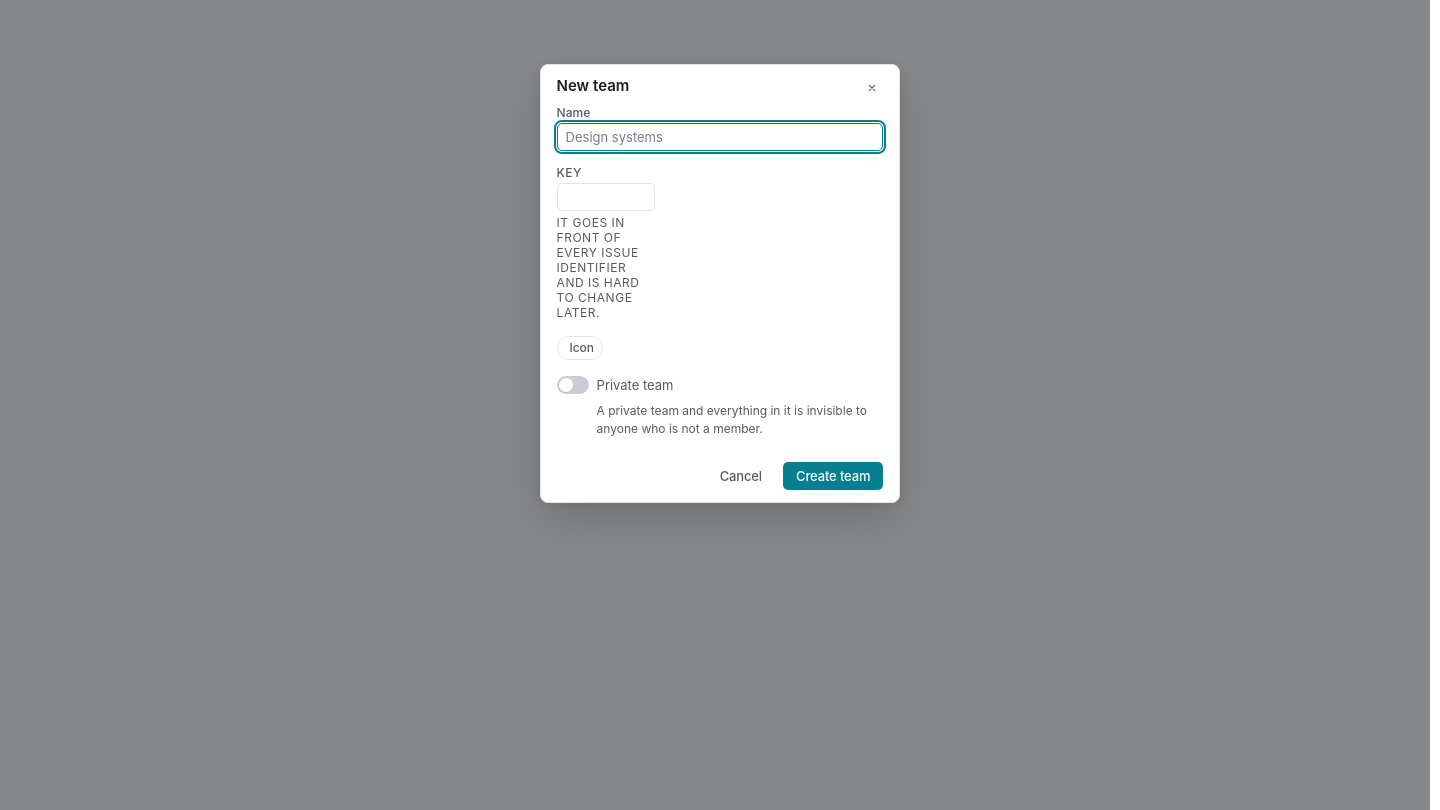
Test: discarding a new team › asks over a key that was typed rather than suggested
This screenshot has width=1440, height=810.
Type "DS" into the field labelled "Key". click: (606, 197)
box: x1=566 y1=184 x2=646 y2=210
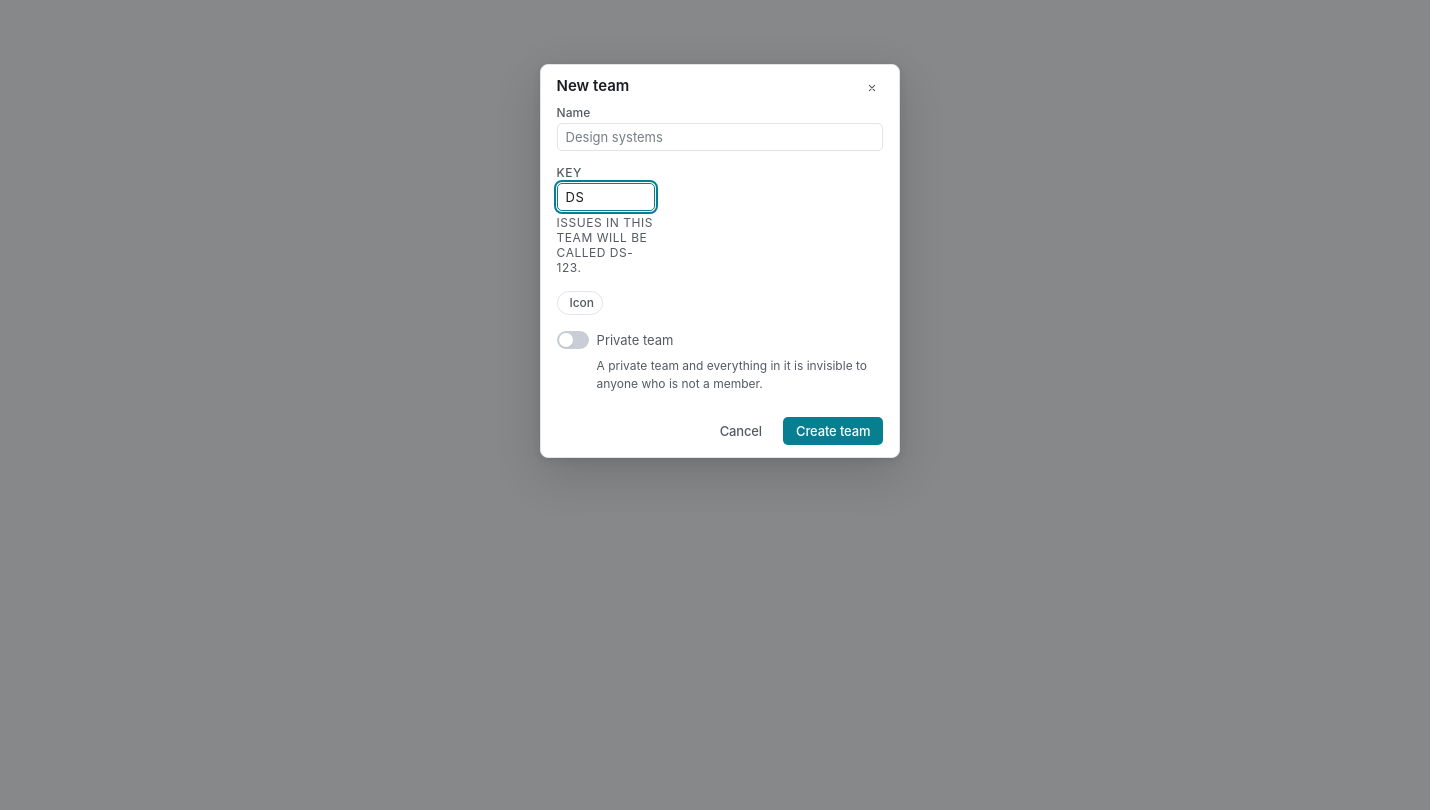
Press Escape
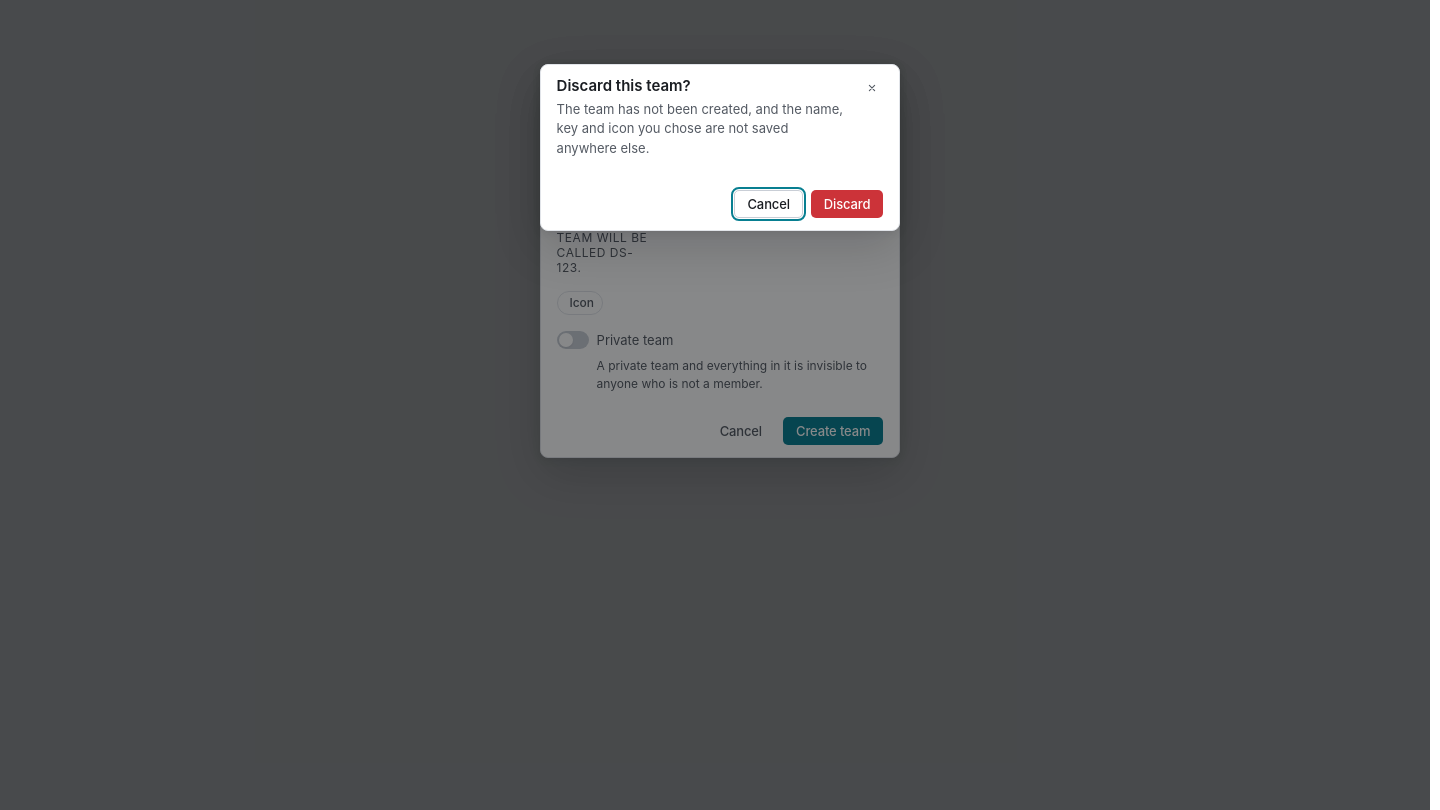
Result: the dialog "Discard this team?" is shown at x1=540 y1=64 x2=900 y2=231
